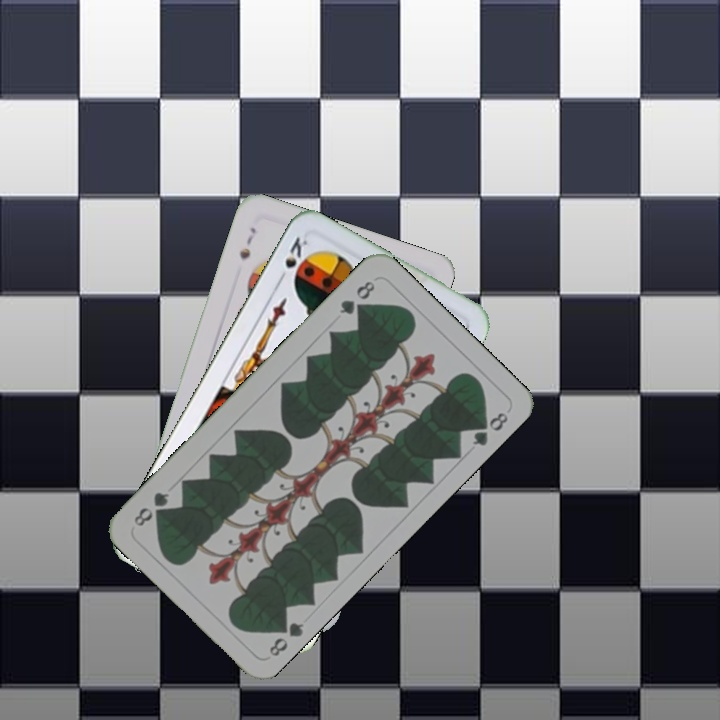G8: (265, 614, 307, 659), (335, 276, 378, 318)
S7: (235, 223, 259, 262)
SK: (273, 232, 311, 286)
